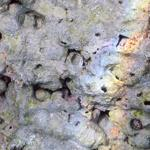dead: (3, 5, 143, 148)
